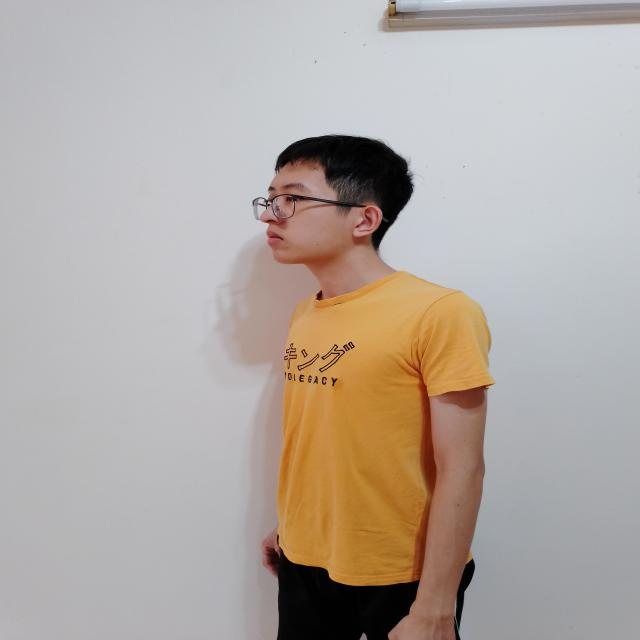person_without_labcoat: (253, 135, 494, 640)
